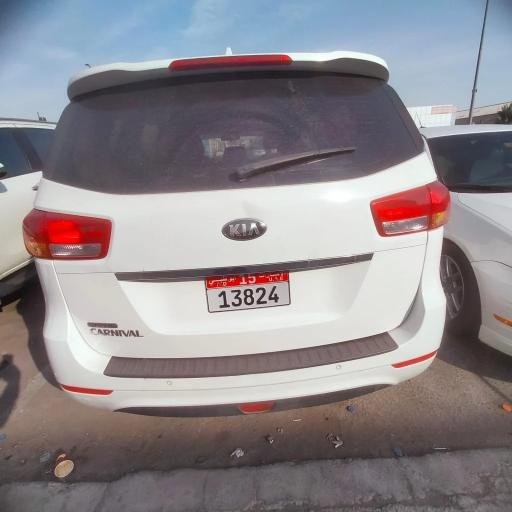license-plates: (204, 270, 291, 313)
